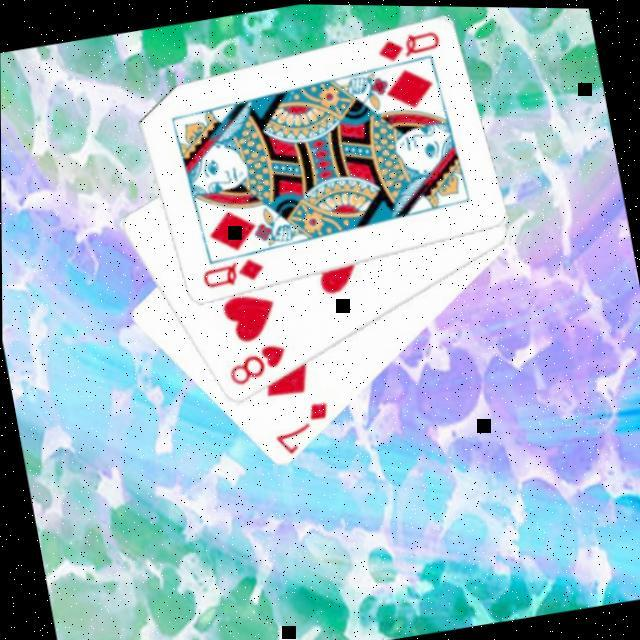7D: (263, 393, 335, 456)
8H: (218, 335, 290, 389)
QD: (369, 23, 442, 66), (193, 249, 266, 291)
